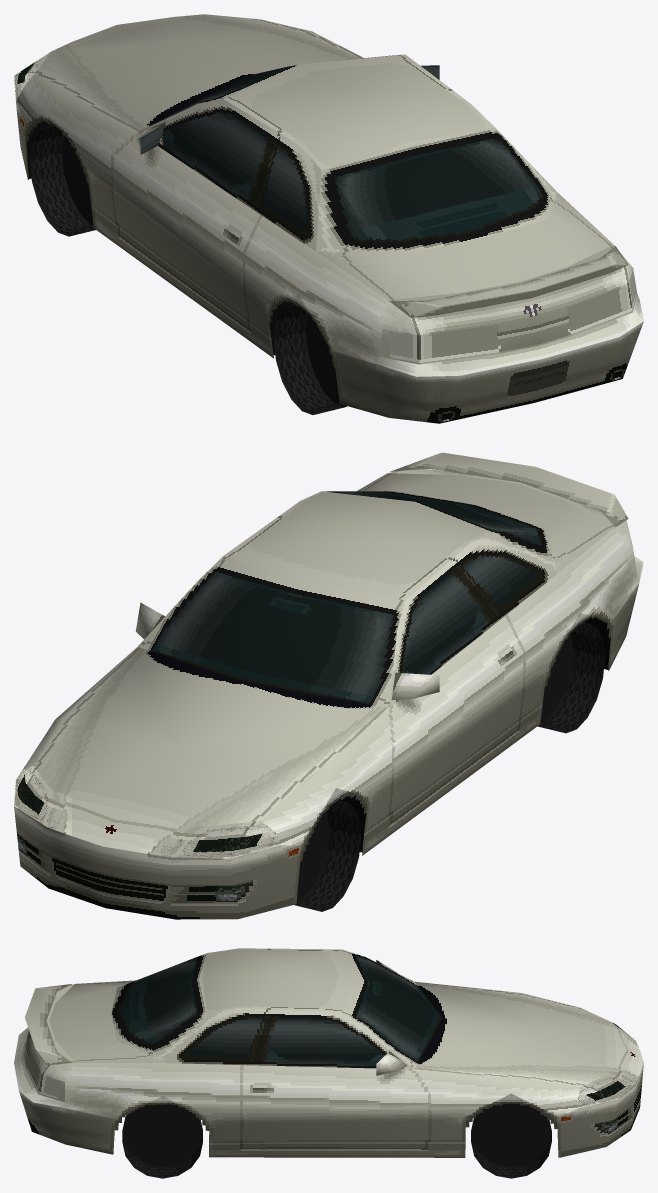
The model's file is exp-239.glb.
3 views of the same model, one above another, from view 1: azimuth 30°, elevation 25°; view 2: azimuth 150°, elevation 25°; view 3: azimuth 270°, elevation 25° (orthographic). The views are drawn at different scales.
Visible parts, largest first — view 1: source/Native body LOD0, source/Native wheel 2, source/Native wheel 0; view 2: source/Native body LOD0, source/Native wheel 0, source/Native wheel 2; view 3: source/Native body LOD0, source/Native wheel 1, source/Native wheel 3.
Boxes of the visible parts, x1=… form: source/Native body LOD0: x1=14, y1=14, x2=643, y2=423; source/Native wheel 2: x1=273, y1=304, x2=347, y2=414; source/Native wheel 0: x1=30, y1=125, x2=95, y2=236; source/Native body LOD0: x1=14, y1=452, x2=643, y2=919; source/Native wheel 0: x1=294, y1=800, x2=361, y2=911; source/Native wheel 2: x1=537, y1=622, x2=604, y2=733; source/Native body LOD0: x1=14, y1=948, x2=643, y2=1157; source/Native wheel 1: x1=471, y1=1103, x2=551, y2=1178; source/Native wheel 3: x1=122, y1=1104, x2=202, y2=1178.
Bounding box in the file's own units: 1.9 × 1.36 × 4.86.
Materials: 11 (10 with a texture image).
